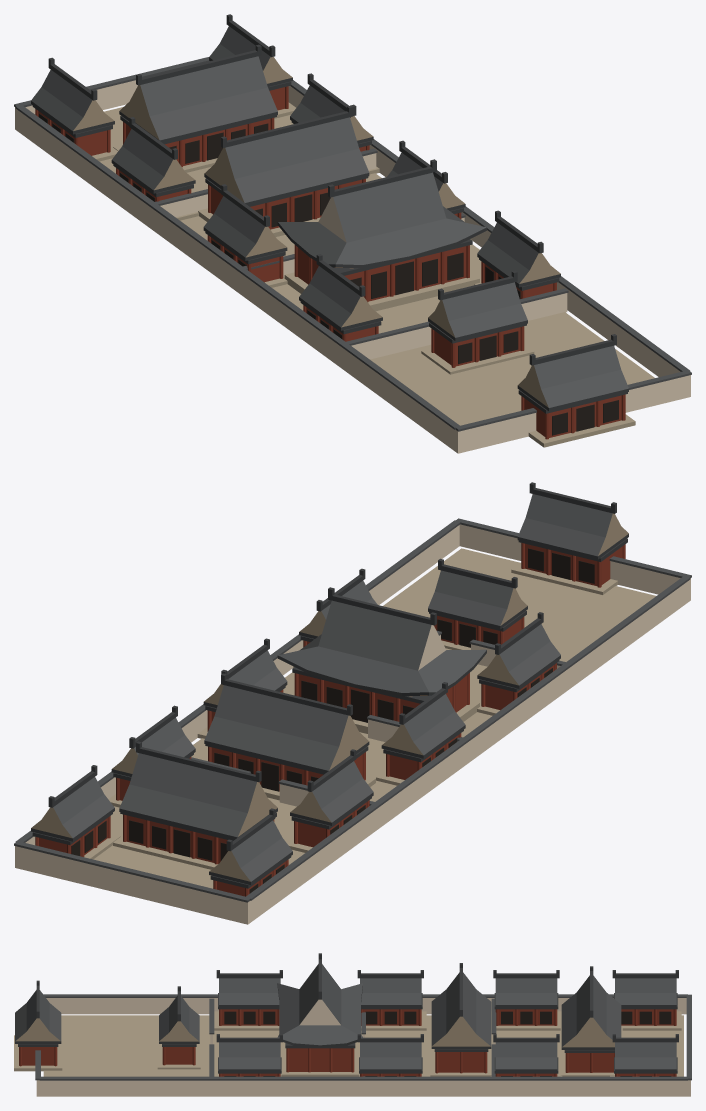
File: B01_far.glb
The picture shows the model from 3 angles, top to bottom: view 1: azimuth 30°, elevation 25°; view 2: azimuth 150°, elevation 25°; view 3: azimuth 270°, elevation 25°; orthographic projection. The views are drawn at different scales.
Parts seen in each view (by area): view 1: B01_far; view 2: B01_far; view 3: B01_far.
Boxes of the visible parts, bbox=[...] form: B01_far: bbox=[14, 14, 691, 453]; B01_far: bbox=[14, 482, 691, 924]; B01_far: bbox=[14, 953, 691, 1096].
Bounding box in the file's own units: 37 × 16.75 × 125.
